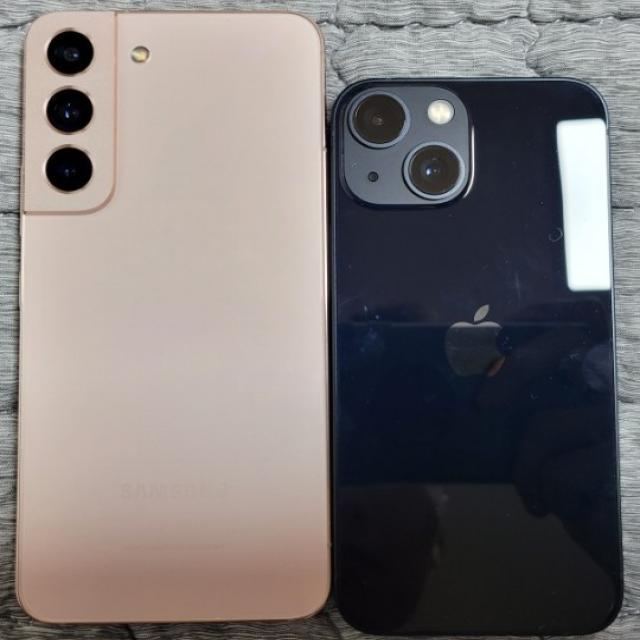phone: (16, 12, 331, 620), (332, 77, 626, 632)
